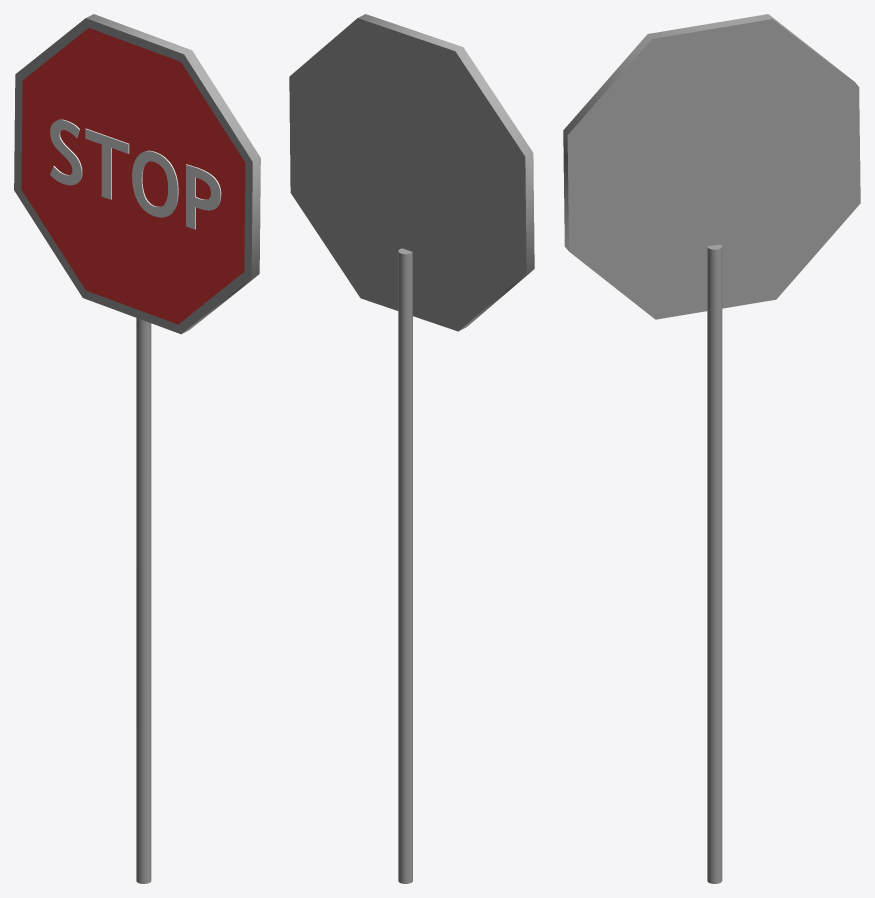
The model's file is 8c9d895f-daff-44d1-ad20-da46cbae597a.glb.
3 views of the same model, side by side, from view 1: azimuth 30°, elevation 25°; view 2: azimuth 210°, elevation 25°; view 3: azimuth 270°, elevation 25° (orthographic).
Parts seen in each view (by area): view 1: Object001, Cylinder002, Cylinder001, Text001; view 2: Cylinder002, Cylinder001; view 3: Cylinder002, Cylinder001.
Part boxes in pixels (box(x1,y1,x2,y2)): Object001: box(21, 28, 245, 324); Cylinder002: box(14, 14, 260, 334); Cylinder001: box(136, 318, 151, 883); Text001: box(50, 119, 221, 229); Cylinder002: box(289, 14, 534, 331); Cylinder001: box(398, 248, 412, 883); Cylinder002: box(563, 14, 860, 319); Cylinder001: box(707, 244, 722, 883).
Bounding box in the file's own units: 118 × 933 × 295.
